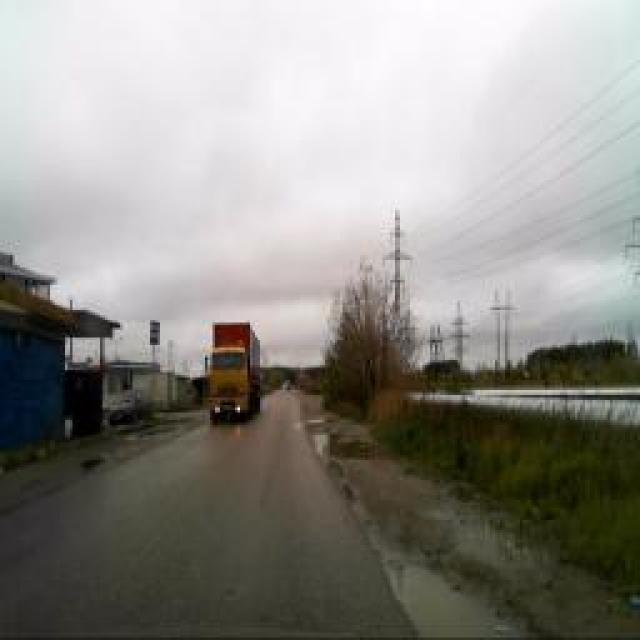sign: (150, 320, 160, 345)
